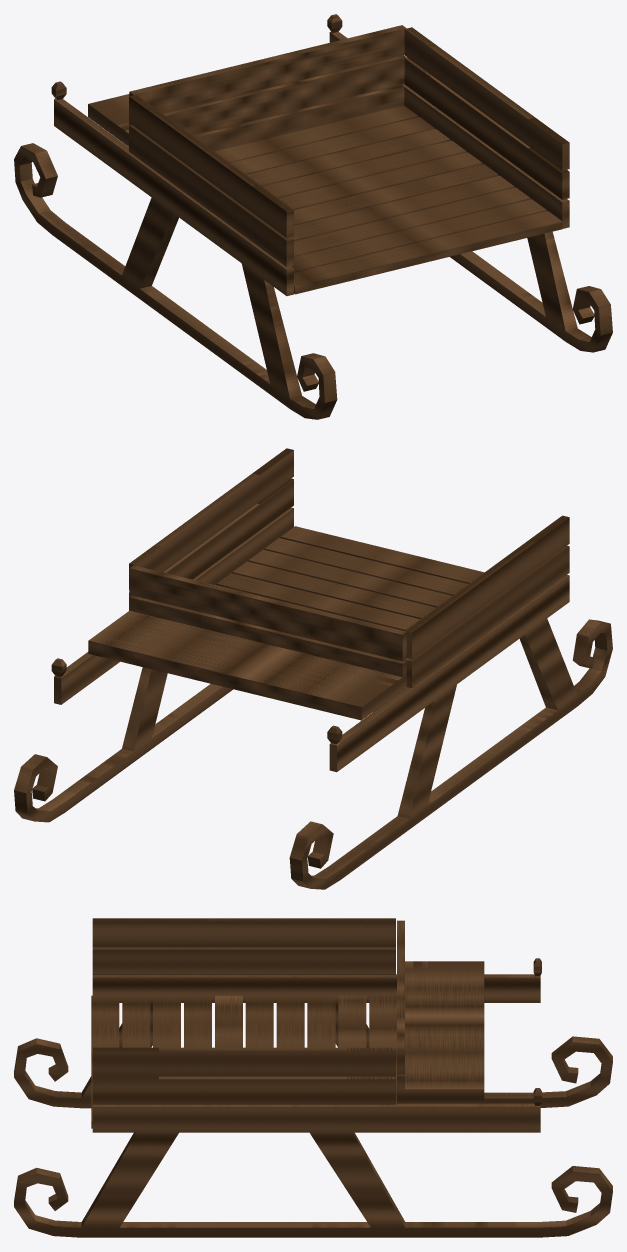
File: horsecart.fbx
The picture shows the model from 3 angles, top to bottom: view 1: azimuth 30°, elevation 25°; view 2: azimuth 150°, elevation 25°; view 3: azimuth 270°, elevation 25°; orthographic projection. The views are drawn at different scales.
Parts seen in each view (by area): view 1: Cube.001; view 2: Cube.001; view 3: Cube.001.
Part boxes in pixels (x1,y1,x2,y2): Cube.001: (14,14,612,419); Cube.001: (14,448,612,889); Cube.001: (14,918,612,1237).
Size of the model in its own units: 650 by 416 by 1217.
Materials: 1 (1 with a texture image).
